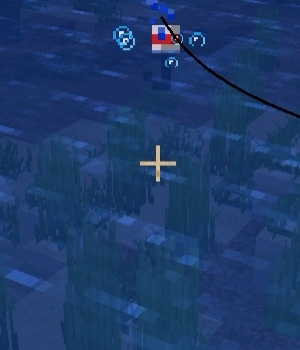up: (140, 20, 189, 91)
